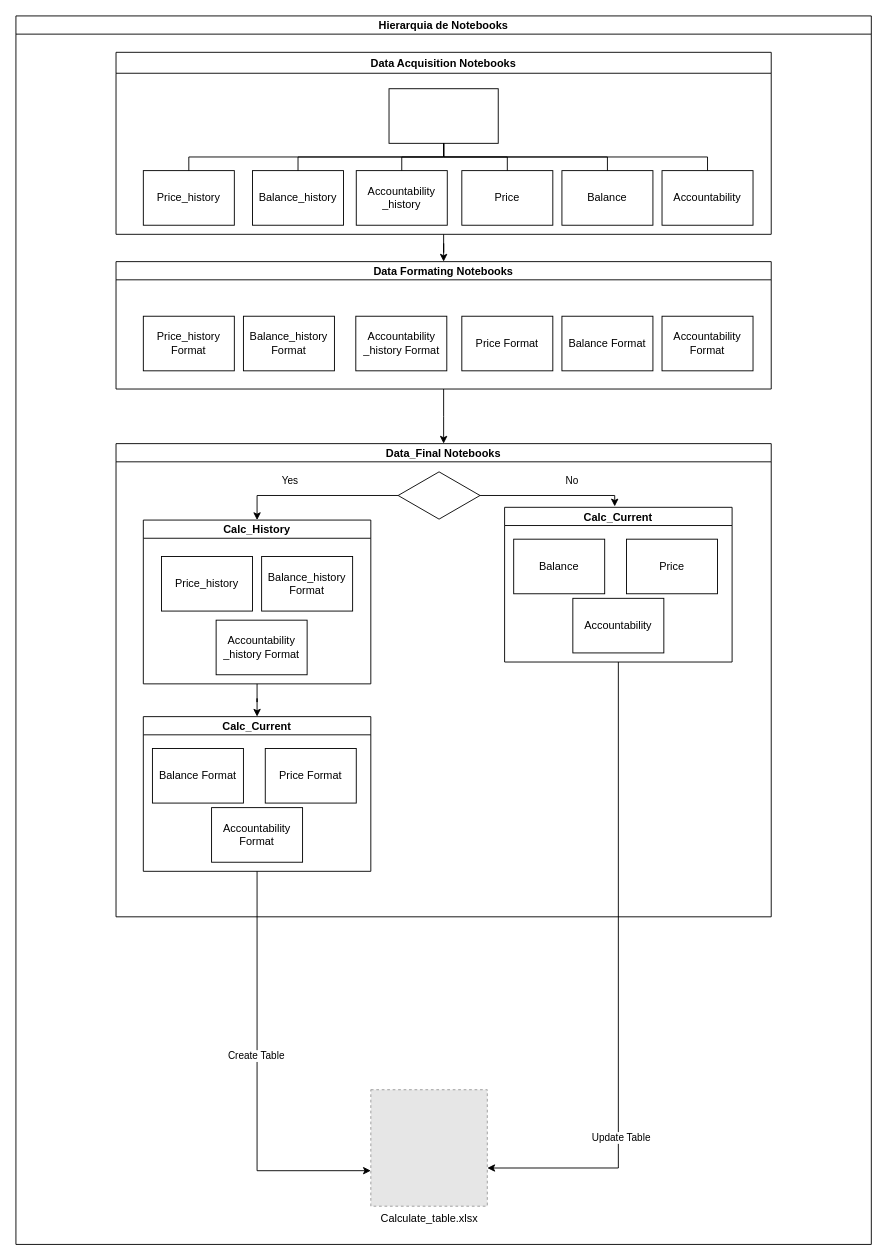
Image size: 887x1260. Some labels were removed from this diagram. Grey dashed boxes stand in for pictures. Here are the shapes that lost their labels. From the top down, the centre of each, then its label:
the point at 443,115: Data_Ac
the point at 438,495: First Run ?
